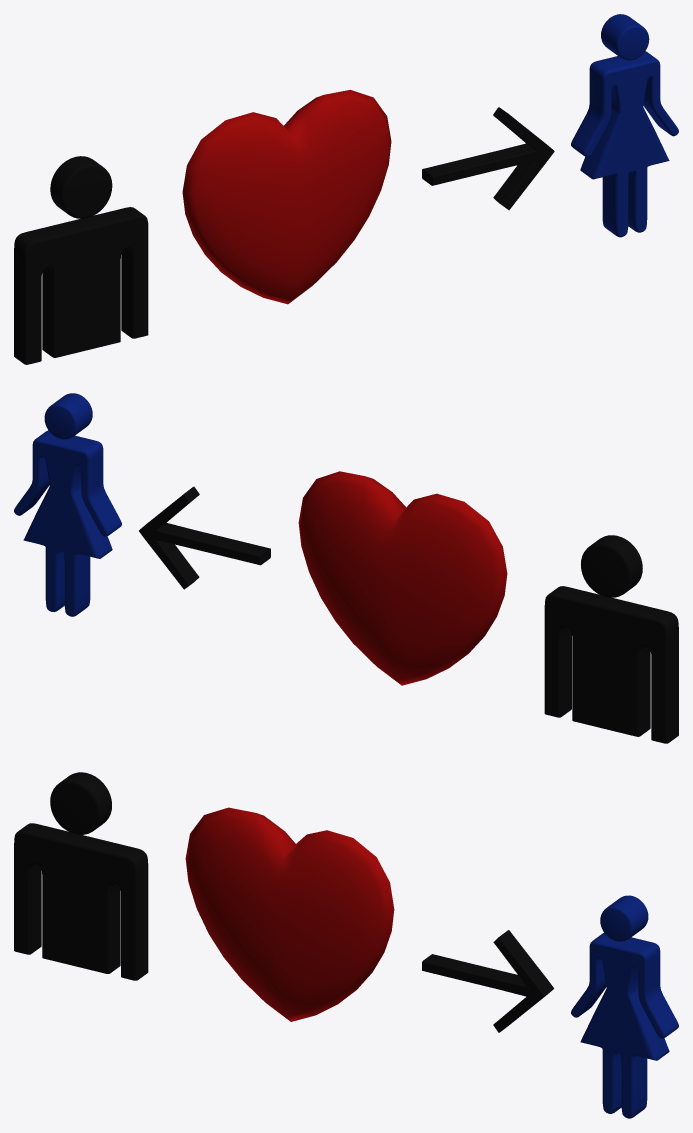
Rendered from 04_爱上你.FBX.
3 views of the same model, one above another, from view 1: azimuth 30°, elevation 25°; view 2: azimuth 150°, elevation 25°; view 3: azimuth 330°, elevation 25° (orthographic).
Visible parts, largest first — view 1: Ellipse014, Plane006, Plane012, 对象002, 对象001, 对象011; view 2: Ellipse014, Plane006, Plane012, 对象002, 对象001, 对象011; view 3: Ellipse014, Plane006, Plane012, 对象002, 对象001, 对象011.
Boxes of the visible parts, bbox=[...] form: Ellipse014: bbox=[182, 89, 391, 304]; Plane006: bbox=[14, 207, 148, 364]; Plane012: bbox=[571, 51, 678, 237]; 对象002: bbox=[422, 107, 554, 210]; 对象001: bbox=[50, 156, 112, 218]; 对象011: bbox=[601, 14, 649, 60]; Ellipse014: bbox=[298, 471, 507, 685]; Plane006: bbox=[544, 586, 678, 743]; Plane012: bbox=[14, 430, 121, 616]; 对象002: bbox=[139, 486, 270, 589]; 对象001: bbox=[581, 535, 642, 597]; 对象011: bbox=[44, 393, 92, 439]; Ellipse014: bbox=[185, 807, 394, 1021]; Plane006: bbox=[14, 823, 148, 980]; Plane012: bbox=[571, 933, 678, 1118]; 对象002: bbox=[422, 930, 553, 1032]; 对象001: bbox=[50, 772, 111, 834]; 对象011: bbox=[600, 895, 648, 941].
Size of the model in its own units: 486 by 150 by 37.68.
